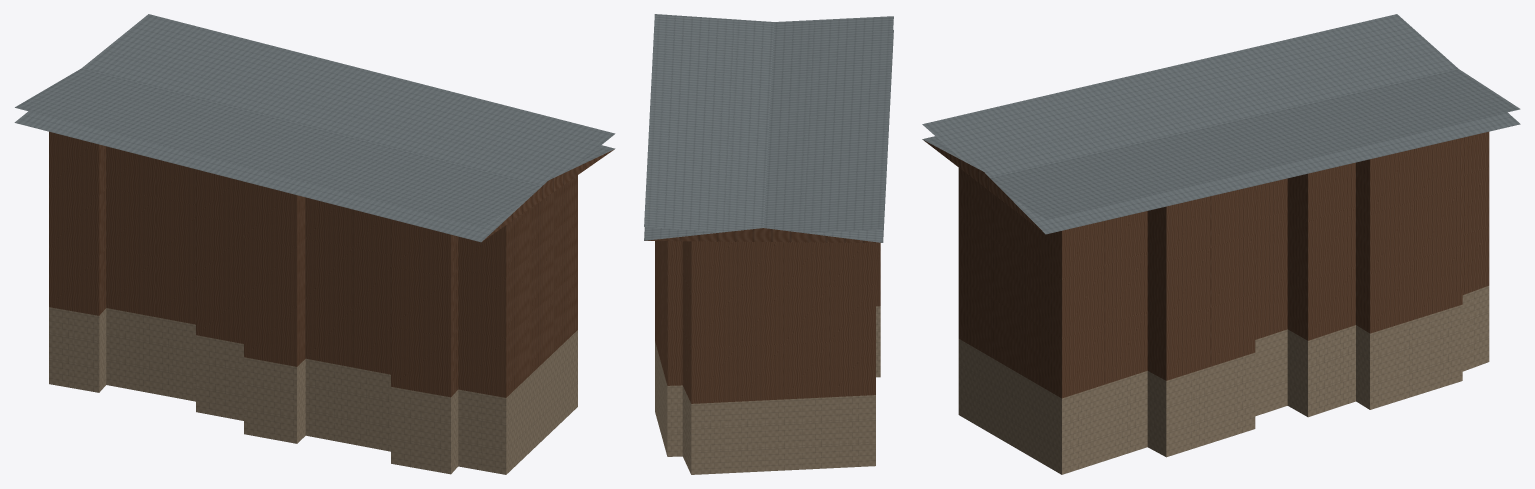
Rendered from bld_c14_22_418.gltf.
3 views of the same model, side by side, from view 1: azimuth 30°, elevation 25°; view 2: azimuth 150°, elevation 25°; view 3: azimuth 270°, elevation 25° (orthographic). The views are drawn at different scales.
Parts seen in each view (by area): view 1: bld_c14_22_418; view 2: bld_c14_22_418; view 3: bld_c14_22_418.
Boxes of the visible parts, x1,y1,x2,y2 form: bld_c14_22_418: (14, 14, 615, 474); bld_c14_22_418: (644, 14, 893, 474); bld_c14_22_418: (922, 14, 1520, 474).
Bounding box in the file's own units: 29.42 × 18 × 36.22.
4 materials, 4 textured.
